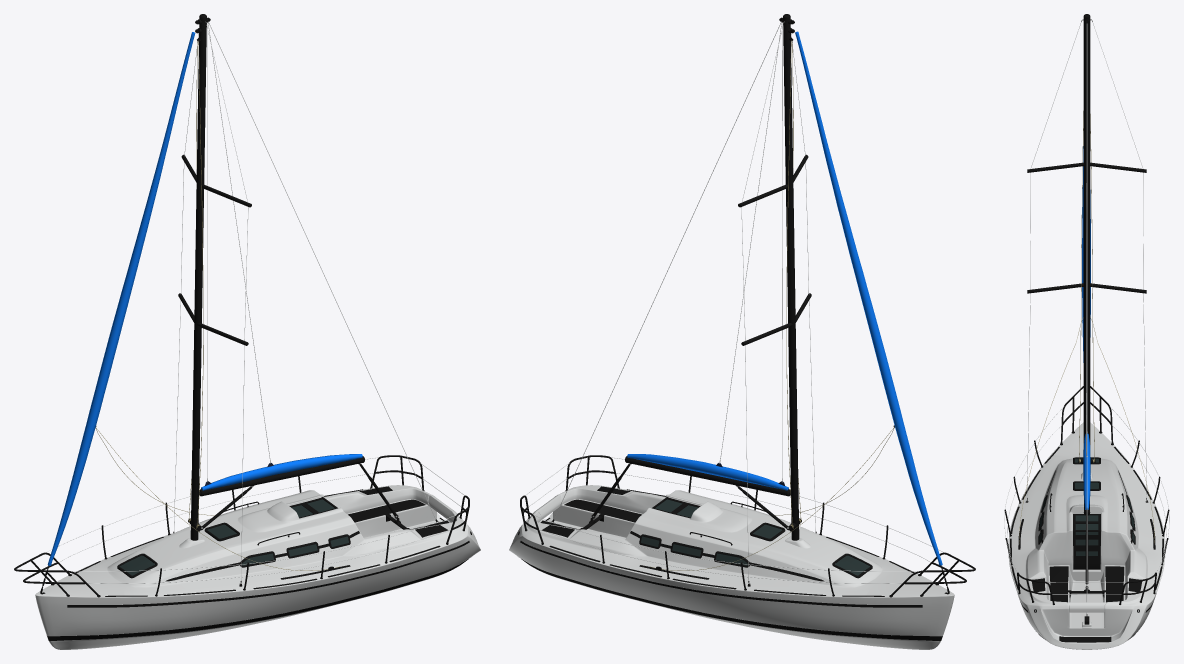
The picture shows the model from 3 angles, left to right: view 1: azimuth 30°, elevation 25°; view 2: azimuth 150°, elevation 25°; view 3: azimuth 270°, elevation 25°; orthographic projection. The views are drawn at different scales.
Parts seen in each view (by area): view 1: arch48_012_obj_04, arch48_012_obj_00, Object59241, arch48_012_obj_02, arch48_012_obj_06, arch48_012_obj_03, arch48_012_obj_01, arch48_012_obj_07; view 2: arch48_012_obj_04, arch48_012_obj_00, Object59241, arch48_012_obj_02, arch48_012_obj_06, arch48_012_obj_03, arch48_012_obj_01, arch48_012_obj_07; view 3: arch48_012_obj_04, arch48_012_obj_00, arch48_012_obj_02, arch48_012_obj_03, arch48_012_obj_06, arch48_012_obj_07, Object59241, arch48_012_obj_01, Object59240.
Part boxes in pixels (x1,y1,x2,y2): arch48_012_obj_04: (35,485,480,649); arch48_012_obj_00: (14,14,471,597); Object59241: (47,32,362,565); arch48_012_obj_02: (46,21,464,583); arch48_012_obj_06: (47,464,469,641); arch48_012_obj_03: (75,486,449,596); arch48_012_obj_01: (119,499,348,575); arch48_012_obj_07: (95,40,339,570); arch48_012_obj_04: (509,485,954,649); arch48_012_obj_00: (518,14,975,597); Object59241: (627,31,942,565); arch48_012_obj_02: (525,21,943,583); arch48_012_obj_06: (520,464,942,641); arch48_012_obj_03: (540,486,914,596); arch48_012_obj_01: (641,499,870,575); arch48_012_obj_07: (650,40,894,570); arch48_012_obj_04: (1008,422,1165,649); arch48_012_obj_00: (1004,14,1169,624); arch48_012_obj_02: (1004,19,1169,613); arch48_012_obj_03: (1010,447,1163,642); arch48_012_obj_06: (1020,458,1153,639); arch48_012_obj_07: (1019,111,1154,543); Object59241: (1082,146,1090,509); arch48_012_obj_01: (1039,458,1134,555); Object59240: (1067,602,1106,612).
Bounding box in the file's own units: 9.52 × 12.46 × 3.41.
